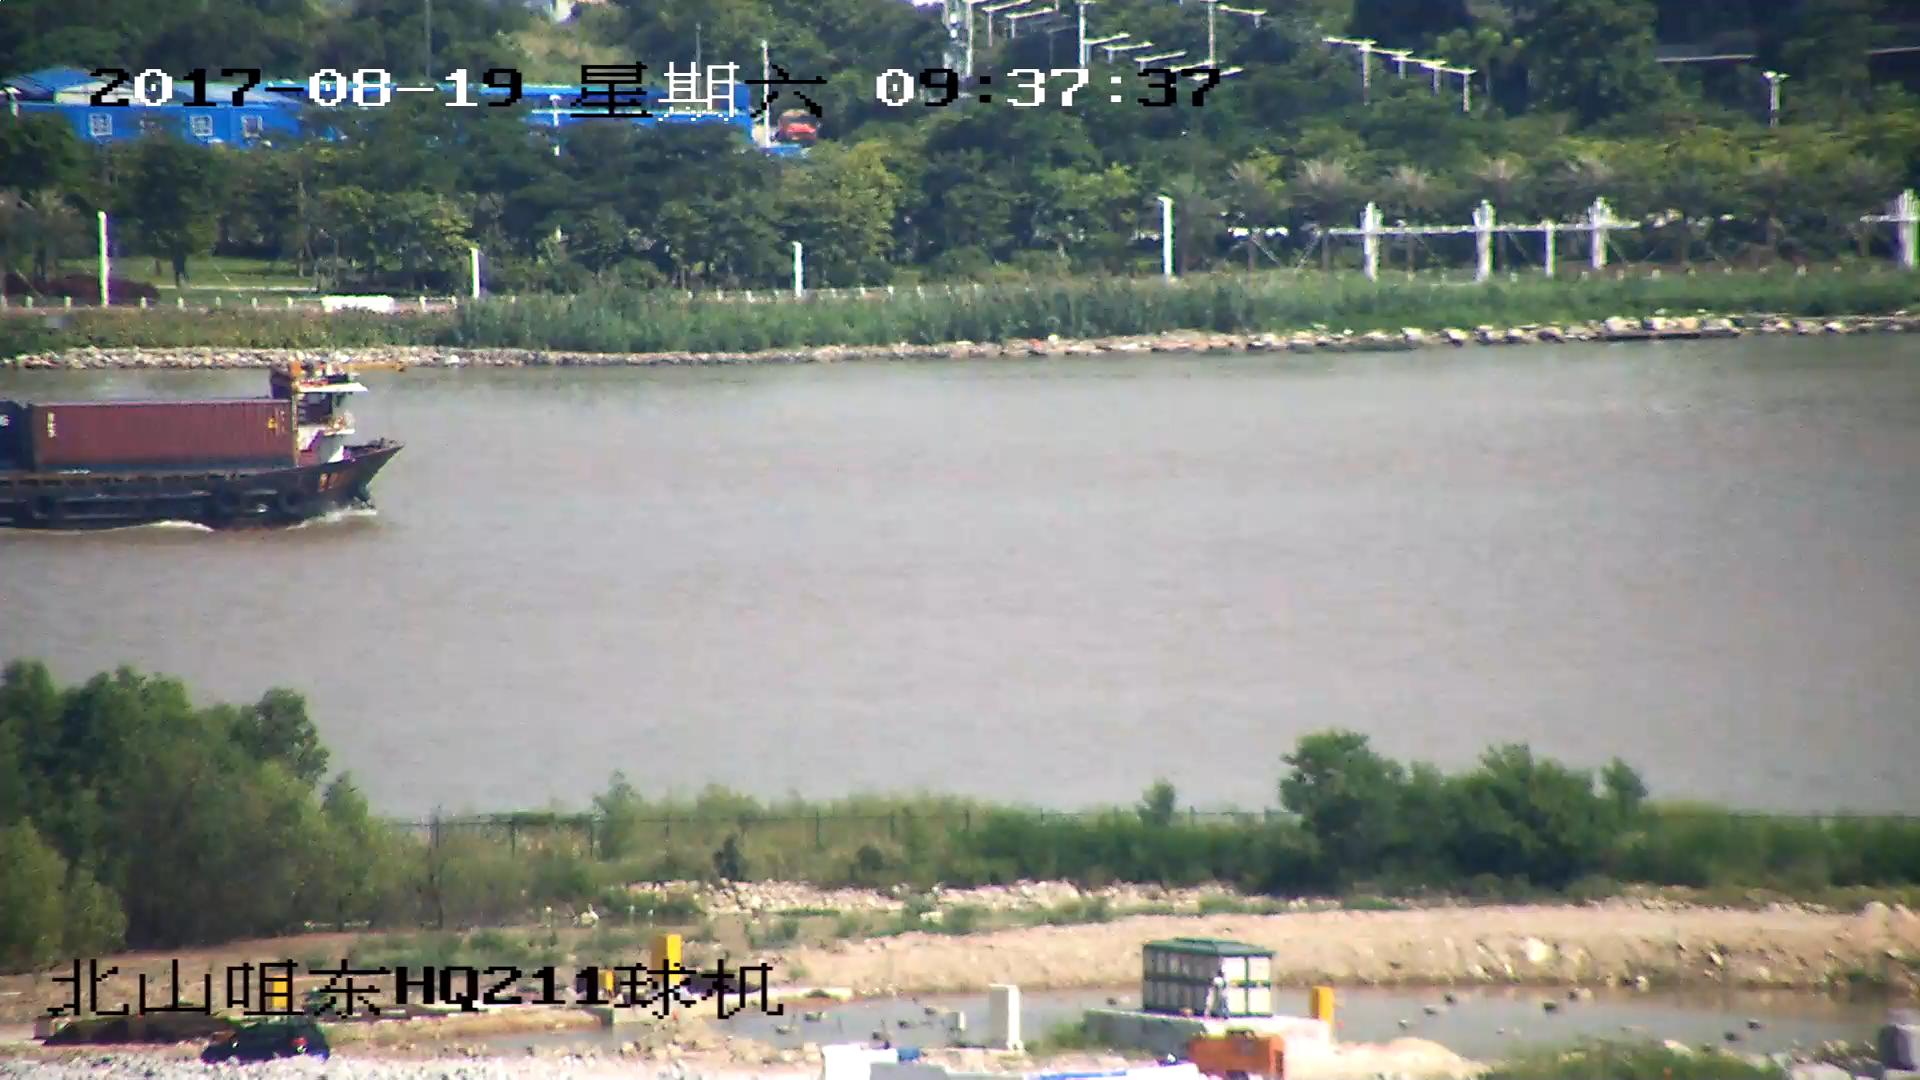container ship: (1, 361, 405, 530)
